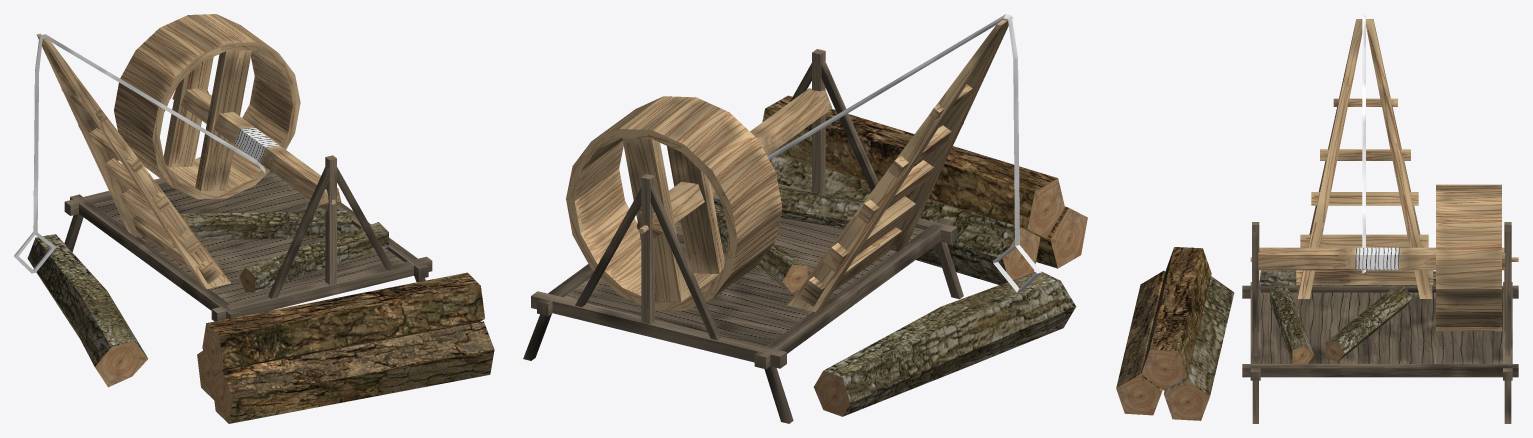
Rendered from entrepot_bois.obj.
3 views of the same model, side by side, from view 1: azimuth 30°, elevation 25°; view 2: azimuth 150°, elevation 25°; view 3: azimuth 270°, elevation 25° (orthographic). The views are drawn at different scales.
Parts seen in each view (by area): view 1: Plane; view 2: Plane; view 3: Plane.
Part boxes in pixels (box(x1,y1,x2,y2)): Plane: box(14, 14, 494, 423); Plane: box(523, 14, 1087, 423); Plane: box(1116, 14, 1518, 423).
Bounding box in the file's own units: 1.46 × 1.22 × 1.64.
